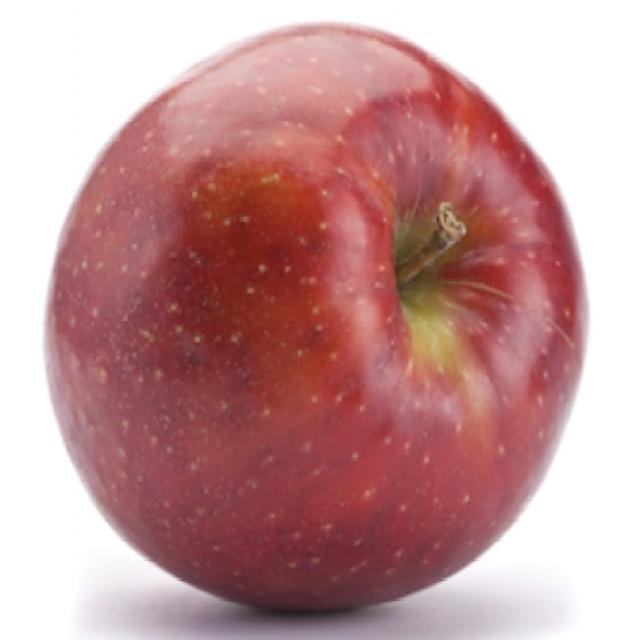Fresh Apple: (60, 29, 587, 608)
